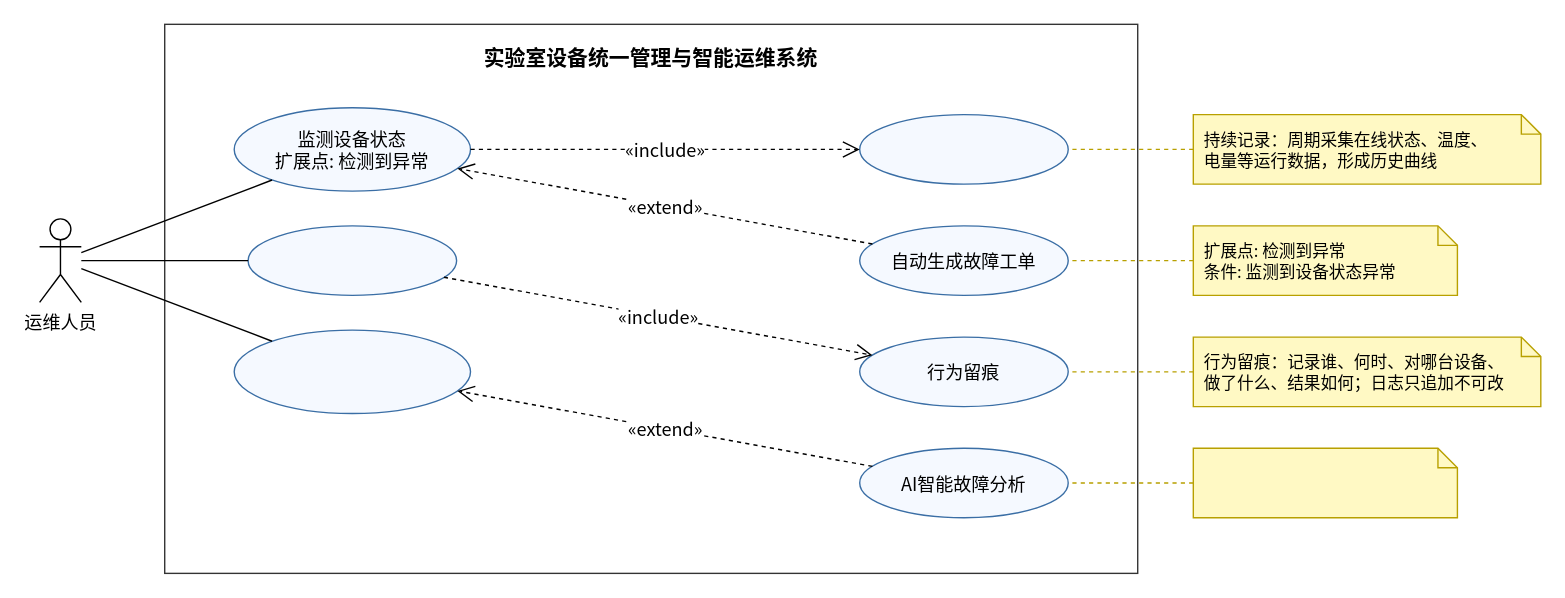
This 1565x598 diagram has some shape labels left out. The centre of each missing label's shape, as x and y in pixels:
"处理故障工单 扩展点: 需要辅助诊断" goes at point (352, 371).
"执行自动化运维" goes at point (352, 259).
"扩展点: 需要辅助诊断 条件: 运维人员请求AI辅助" goes at point (1324, 482).
"持续记录运行数据" goes at point (963, 148).
